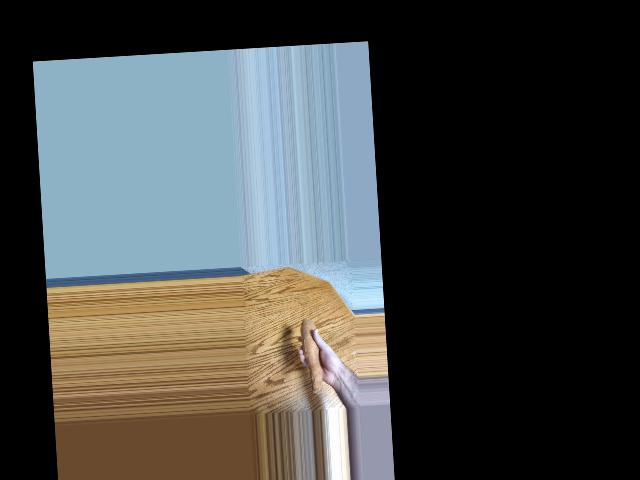sweet_potato: (299, 313, 327, 396)
